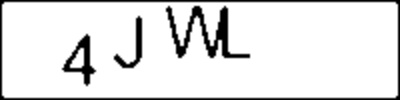4: (61, 33, 99, 89)
J: (112, 10, 147, 68)
L: (219, 3, 255, 62)
W: (164, 3, 227, 60)
